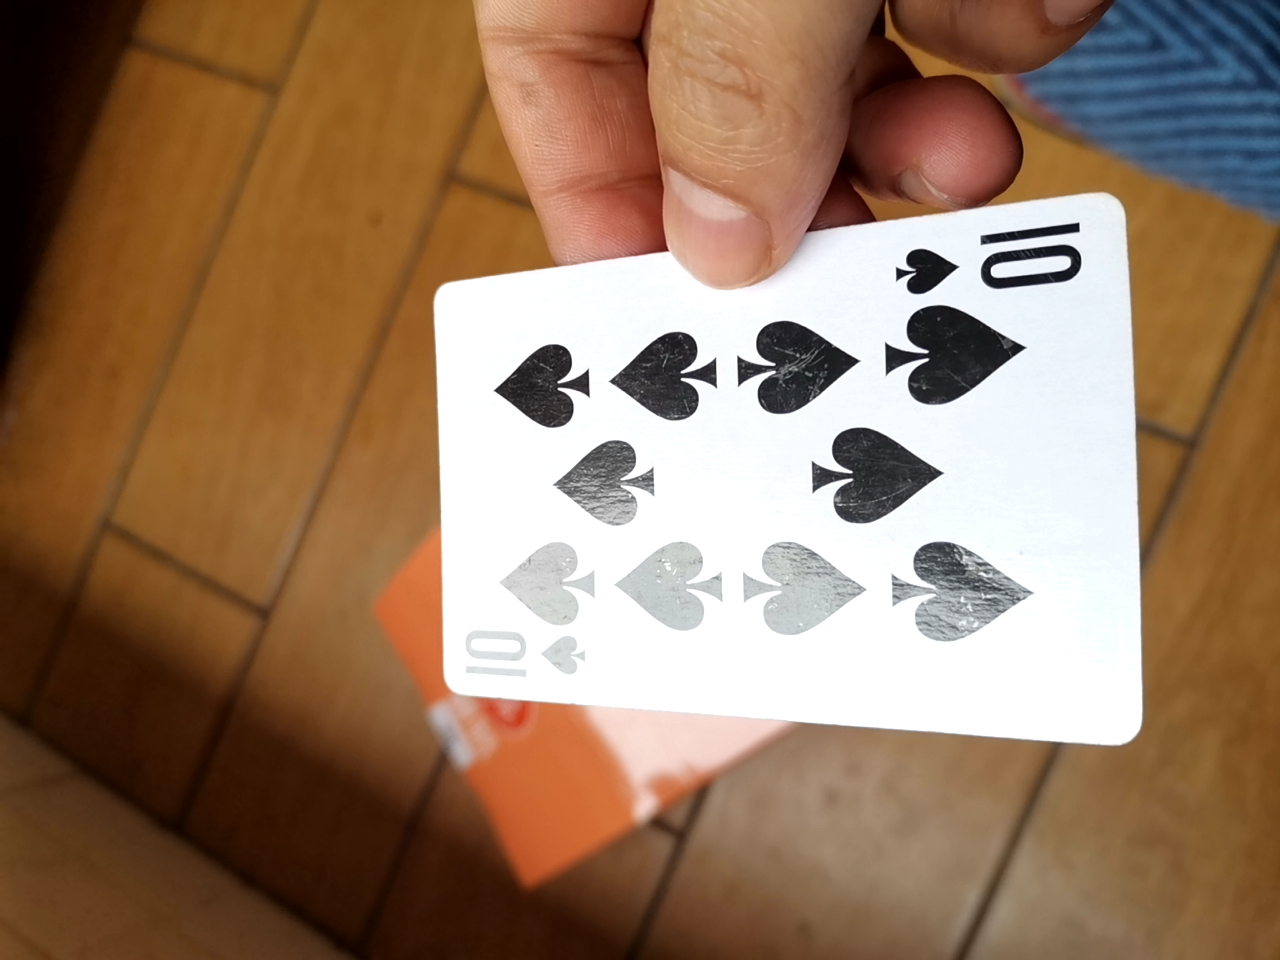ht 10: (397, 192, 1137, 753)
